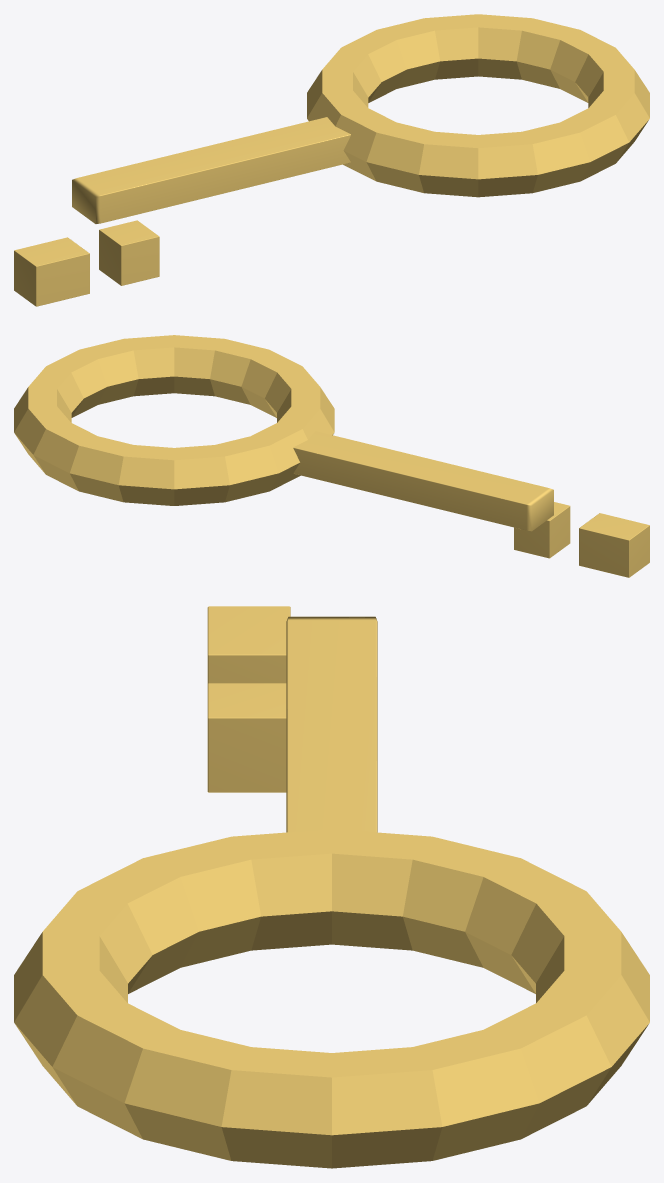
File: key.glb
3 renders of one model, top to bottom at view 1: azimuth 30°, elevation 25°; view 2: azimuth 150°, elevation 25°; view 3: azimuth 270°, elevation 25°, orthographic. The views are drawn at different scales.
Parts seen in each view (by area): view 1: ring, shaft, tooth one, tooth two; view 2: ring, shaft, tooth one, tooth two; view 3: ring, shaft, tooth two, tooth one.
Part boxes in pixels (x1,y1,x2,y2): ring: [307, 14, 649, 197]; shaft: [72, 117, 350, 223]; tooth one: [14, 237, 89, 306]; tooth two: [99, 220, 159, 285]; ring: [14, 335, 334, 505]; shaft: [293, 431, 553, 531]; tooth one: [579, 513, 649, 577]; tooth two: [514, 502, 570, 558]; ring: [14, 829, 649, 1168]; shaft: [286, 616, 377, 832]; tooth two: [207, 683, 286, 792]; tooth one: [207, 606, 290, 683].
Size of the model in its own units: 0.81 by 0.1053 by 0.3841.
